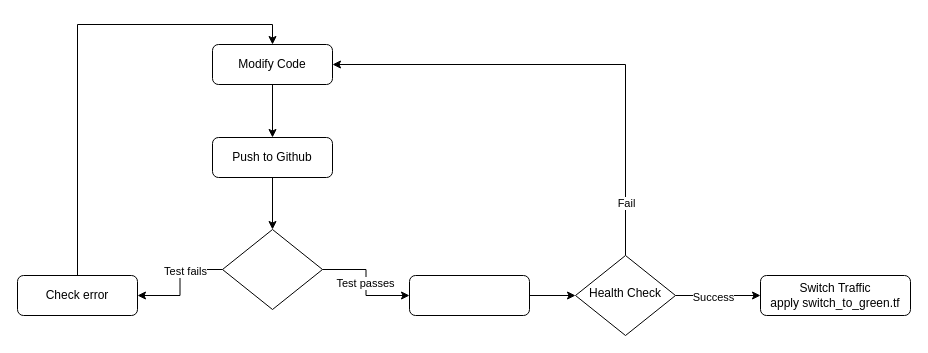
This 928x353 diagram has some shape labels left out. The centre of each missing label's shape, as x and y in pixels:
Run Terraform (IaC) apply green.tf: the point at 469,295
Tests Run: the point at 272,269
